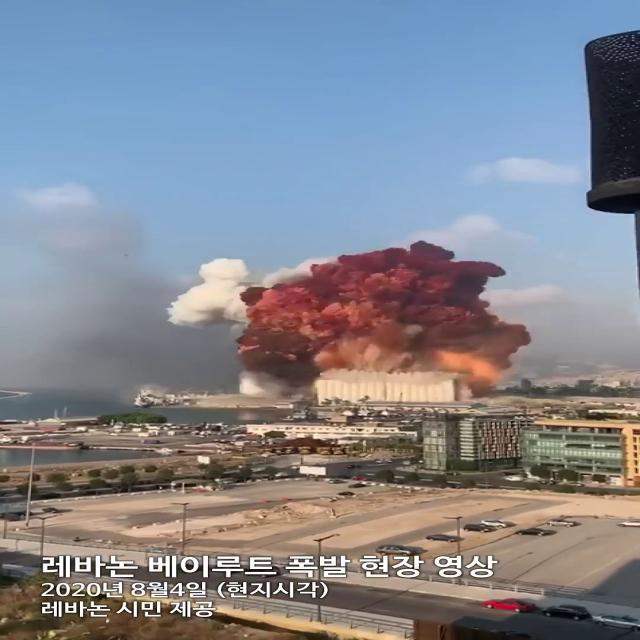explosion: (163, 226, 581, 425)
